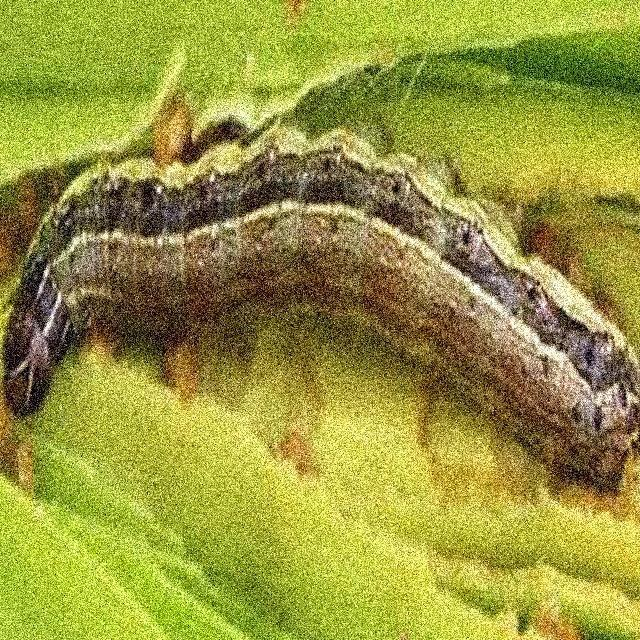worm: (2, 109, 639, 504)
